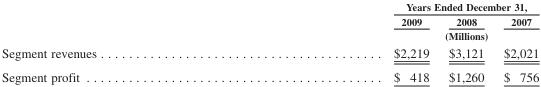table: (0, 0, 538, 84)
table column: (0, 0, 244, 84), (244, 0, 438, 84), (438, 0, 493, 84), (493, 0, 538, 84)
table column header: (0, 0, 538, 43)
table row: (0, 43, 538, 64), (0, 64, 538, 84), (0, 13, 538, 28), (0, 28, 538, 43), (0, 0, 538, 13)
table spanning cell: (244, 28, 538, 43), (244, 0, 538, 13)
